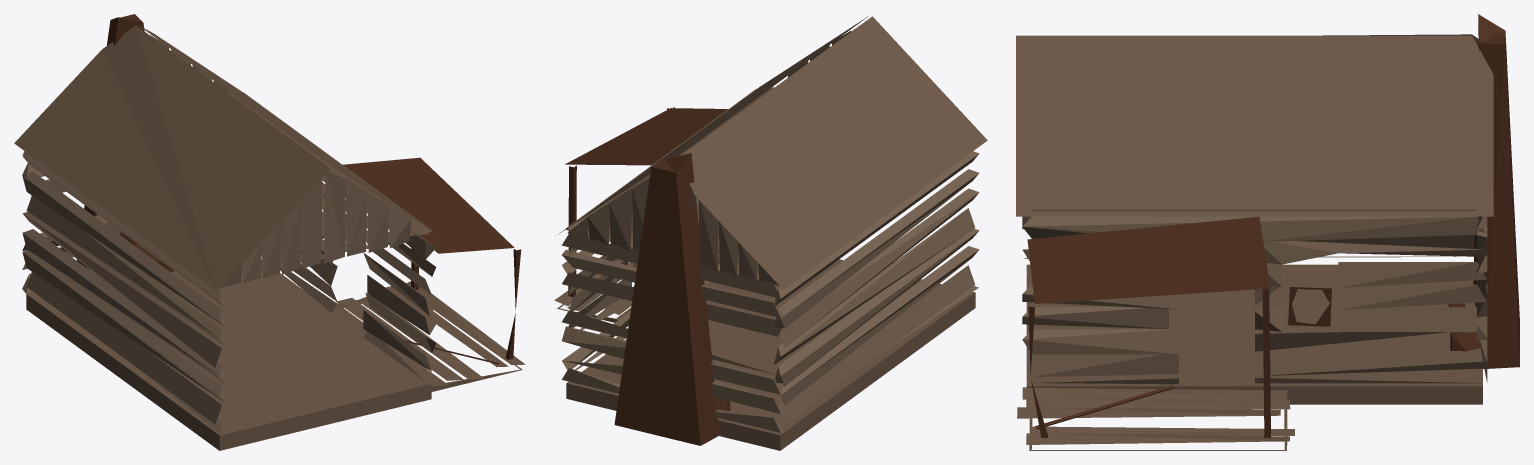
File: ruined-cabin.lod2.glb
The picture shows the model from 3 angles, left to right: view 1: azimuth 30°, elevation 25°; view 2: azimuth 150°, elevation 25°; view 3: azimuth 270°, elevation 25°; orthographic projection. The views are drawn at different scales.
Visible parts, largest first — view 1: Foundation.003_2.001_0; view 2: Foundation.003_2.001_0; view 3: Foundation.003_2.001_0.
Boxes of the visible parts, bbox=[...] form: Foundation.003_2.001_0: bbox=[14, 14, 525, 450]; Foundation.003_2.001_0: bbox=[554, 16, 987, 450]; Foundation.003_2.001_0: bbox=[1016, 14, 1519, 450].
Bounding box in the file's own units: 5.08 × 4.2 × 5.98.
